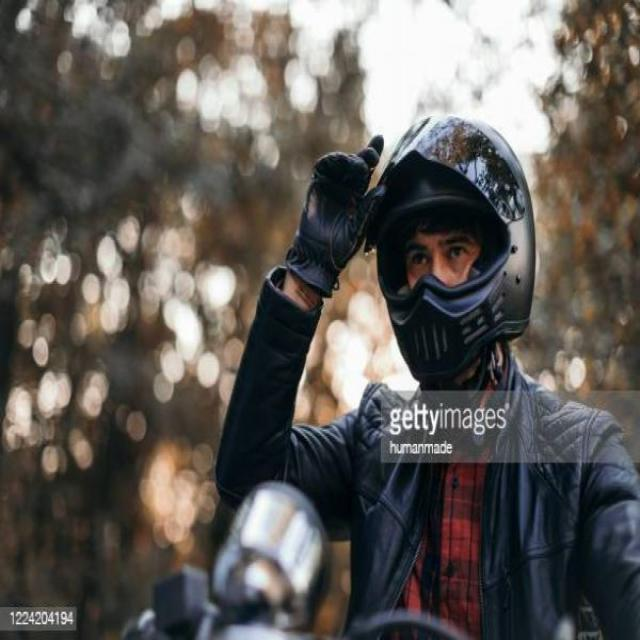Helmet: (355, 69, 552, 385)
